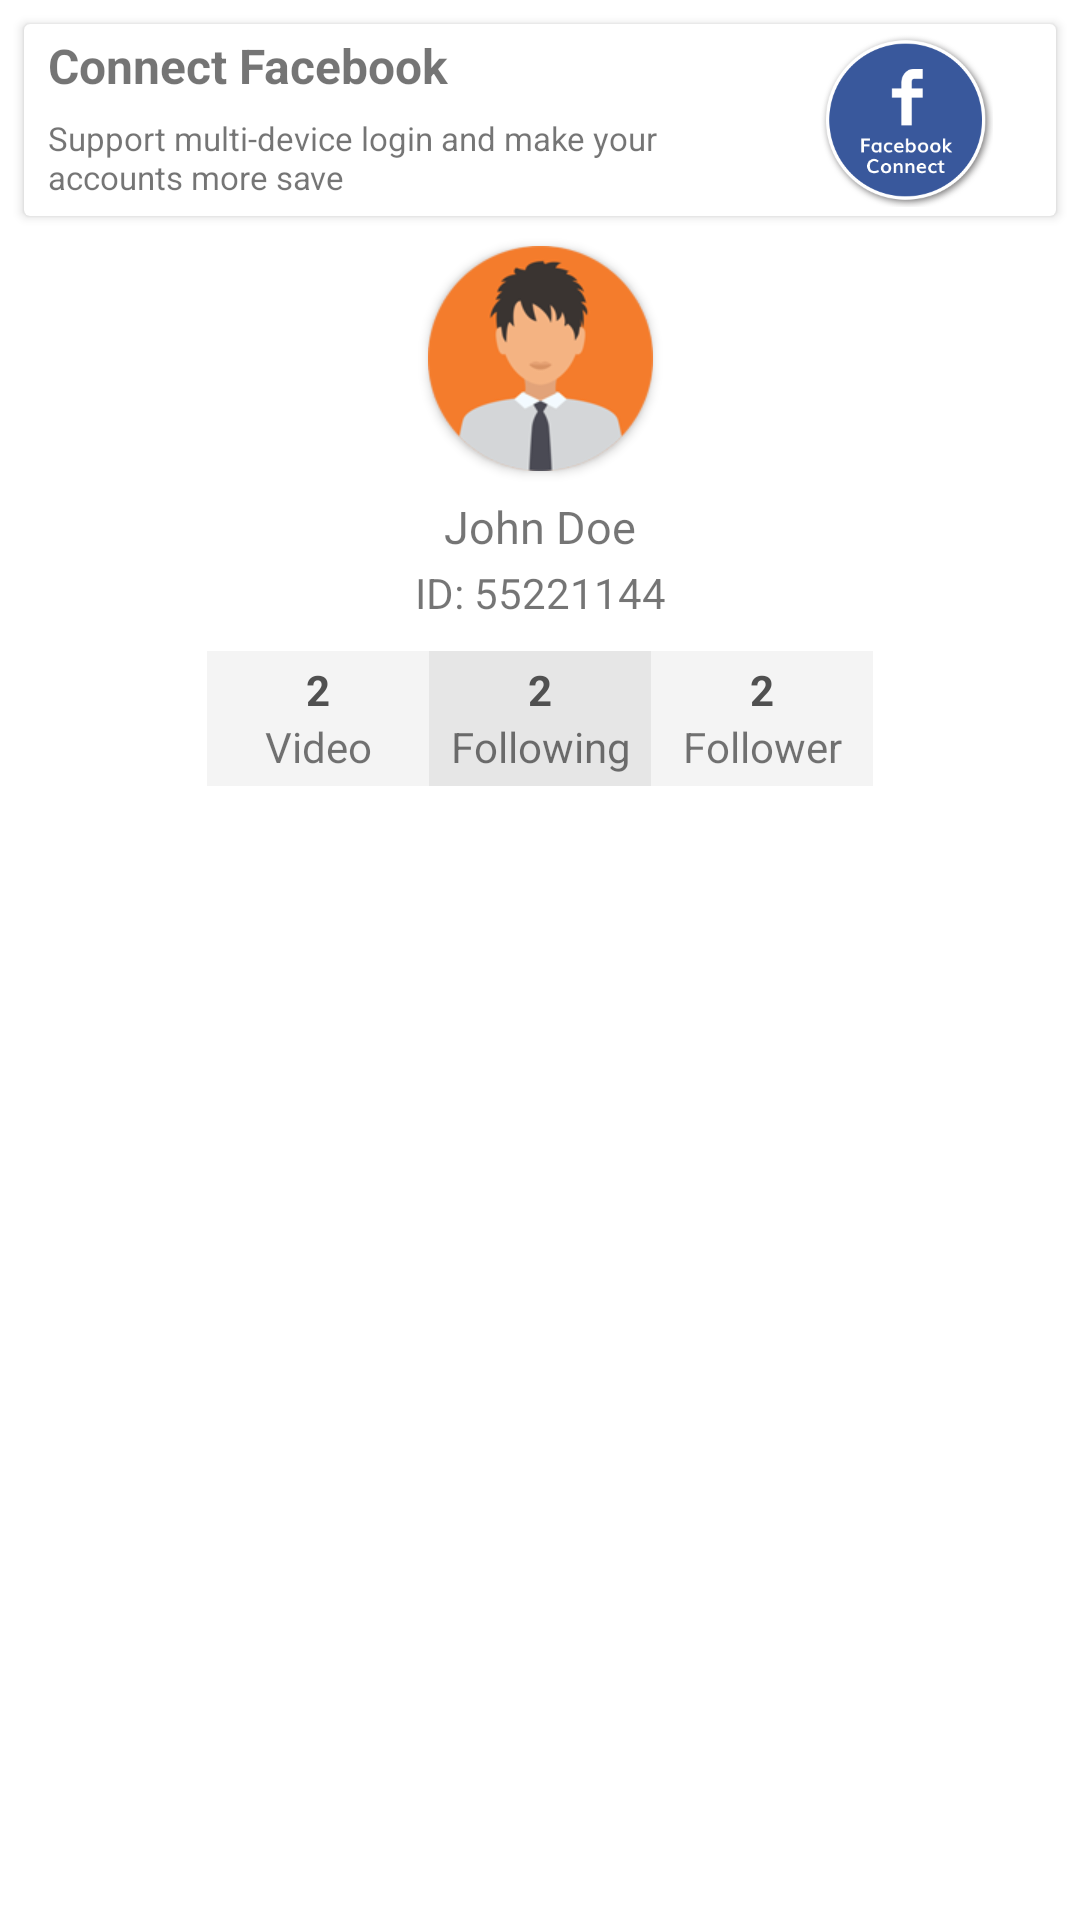

Named icons in this screenshot (1080px×1920px) and their centers, (x,y):
user: (540,358)
